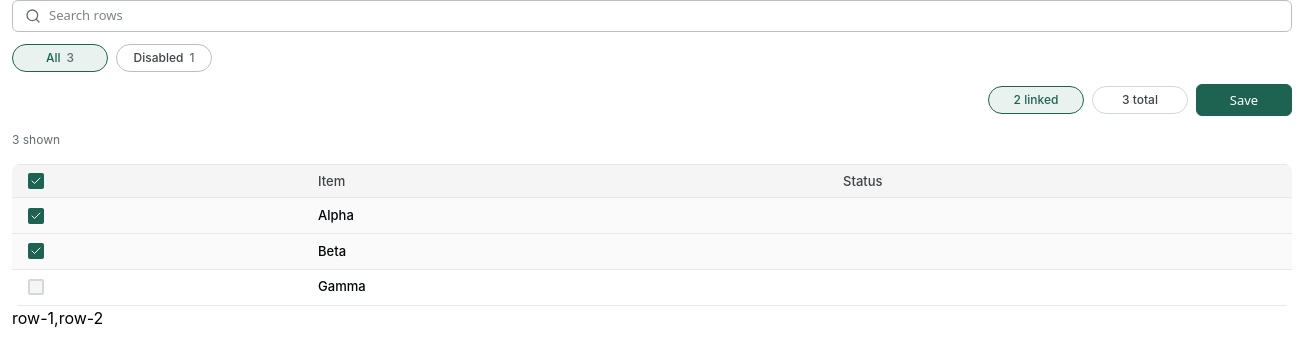
it: AssignmentSelector › unselects only currently shown rows and preserves hidden selection
The image size is (1304, 344).
Type "alpha" into the search field.
click(664, 16); type("alpha")  # box [49,6,1279,26]
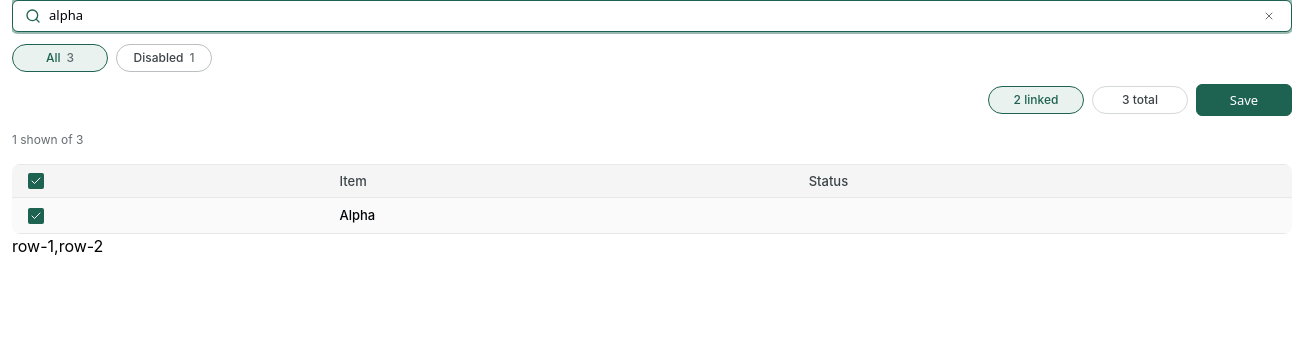
Note: Unchecking the table's select-all clears exactly the shown rows.
Click the checkbox named "Select visible rows".
click(36, 181)  # box [28,173,44,189]
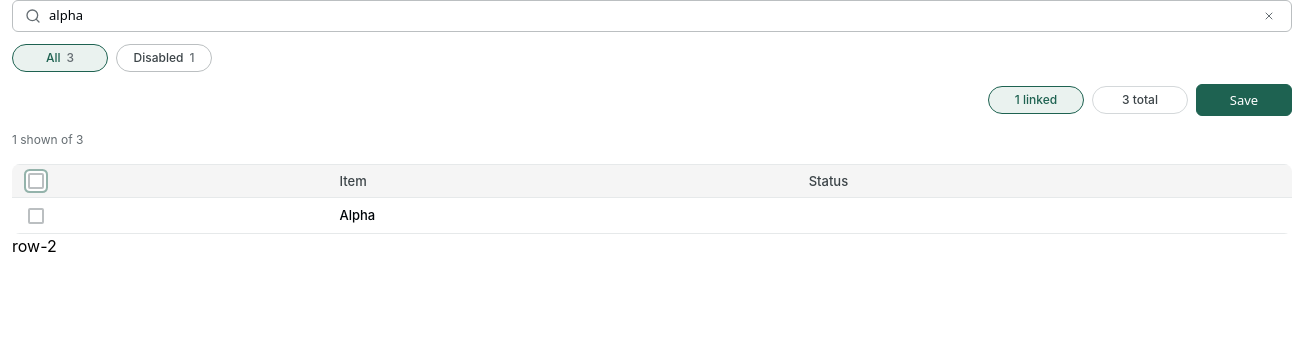
Result: the text with test id "selected-ids" reads "row-2" at [12,236,57,256]
